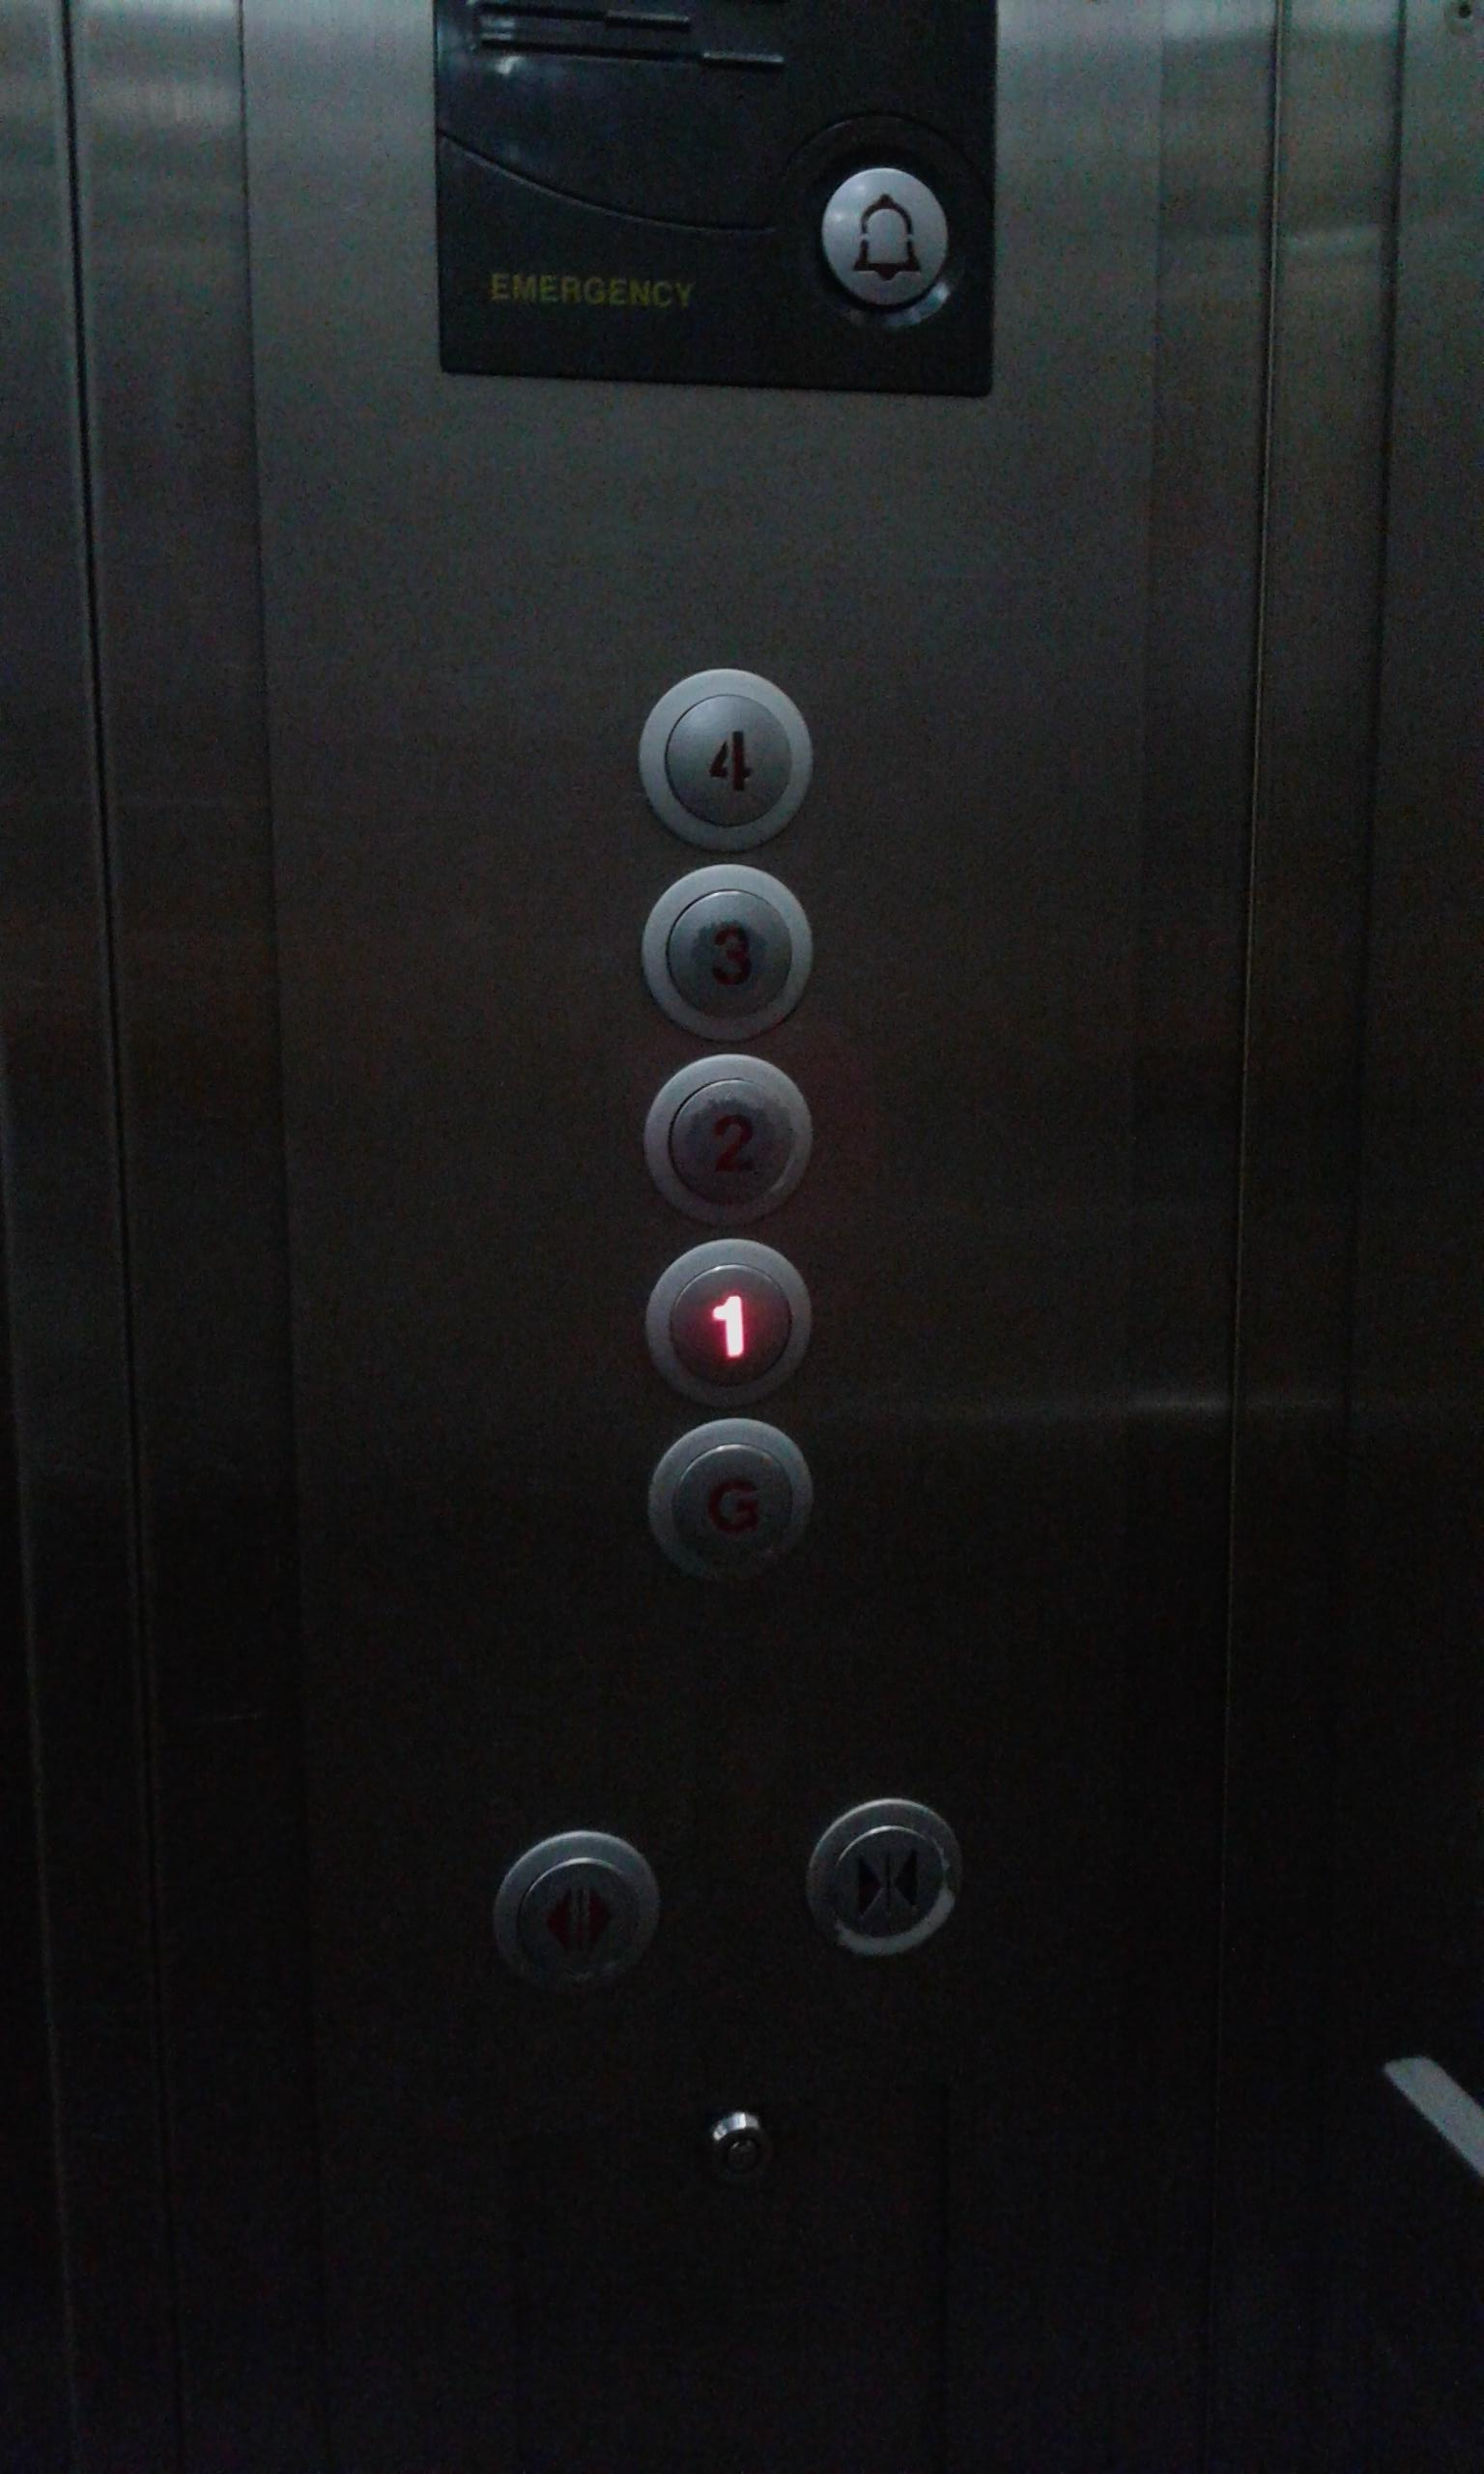1: (645, 1230, 818, 1407)
2: (636, 1048, 816, 1228)
3: (634, 868, 832, 1044)
4: (632, 668, 825, 852)
G: (645, 1410, 829, 1587)
alarm: (809, 154, 963, 325)
close: (802, 1795, 966, 1965)
open: (491, 1825, 662, 1995)
